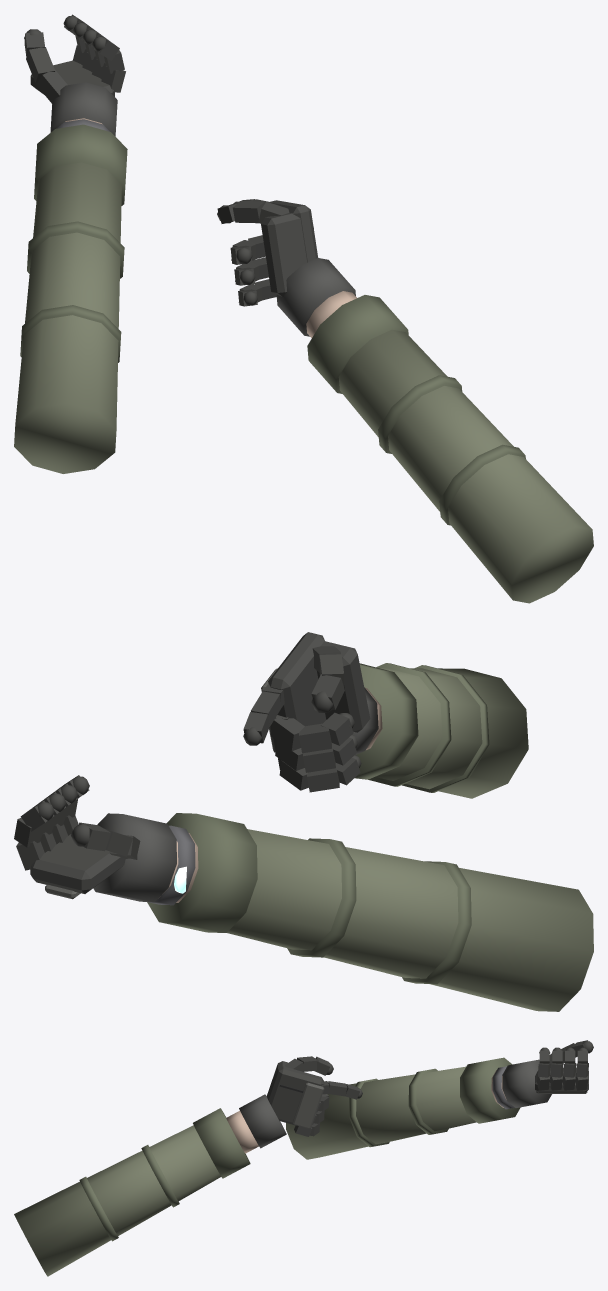
File: hands_sniper.glb
3 renders of one model, top to bottom at view 1: azimuth 30°, elevation 25°; view 2: azimuth 150°, elevation 25°; view 3: azimuth 270°, elevation 25°, orthographic. The views are drawn at different scales.
Parts seen in each view (by area): view 1: Hands_sniper, HandL; view 2: HandL, Hands_sniper; view 3: Hands_sniper, HandL.
Part boxes in pixels (x1,y1,x2,y2): Hands_sniper: (217, 199, 593, 603); HandL: (14, 14, 127, 473); HandL: (14, 775, 593, 1011); Hands_sniper: (243, 632, 528, 798); Hands_sniper: (14, 1056, 362, 1276); HandL: (286, 1040, 593, 1159).
Bounding box in the file's own units: 0.4433 × 0.3542 × 0.9119.
